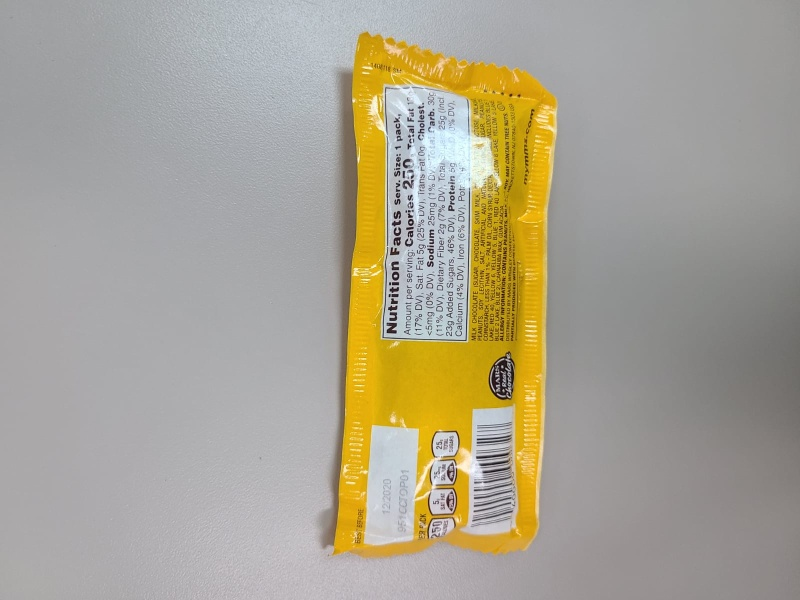m&m: (331, 30, 565, 557)
